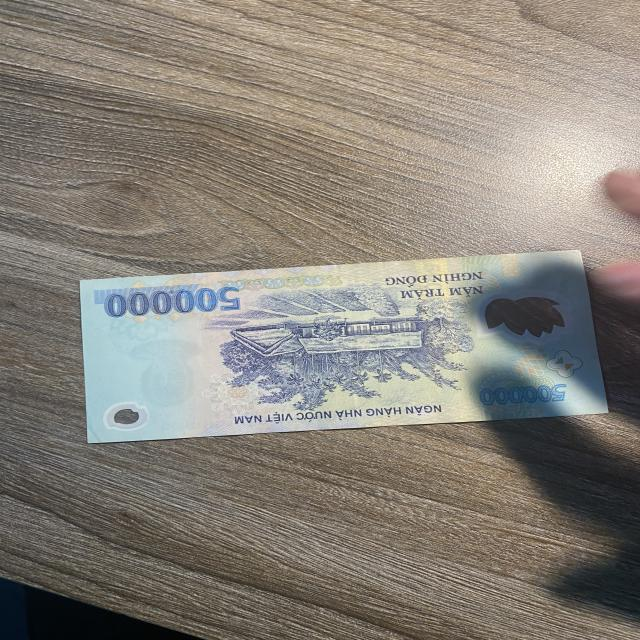500 000 VND: (78, 250, 610, 446)
